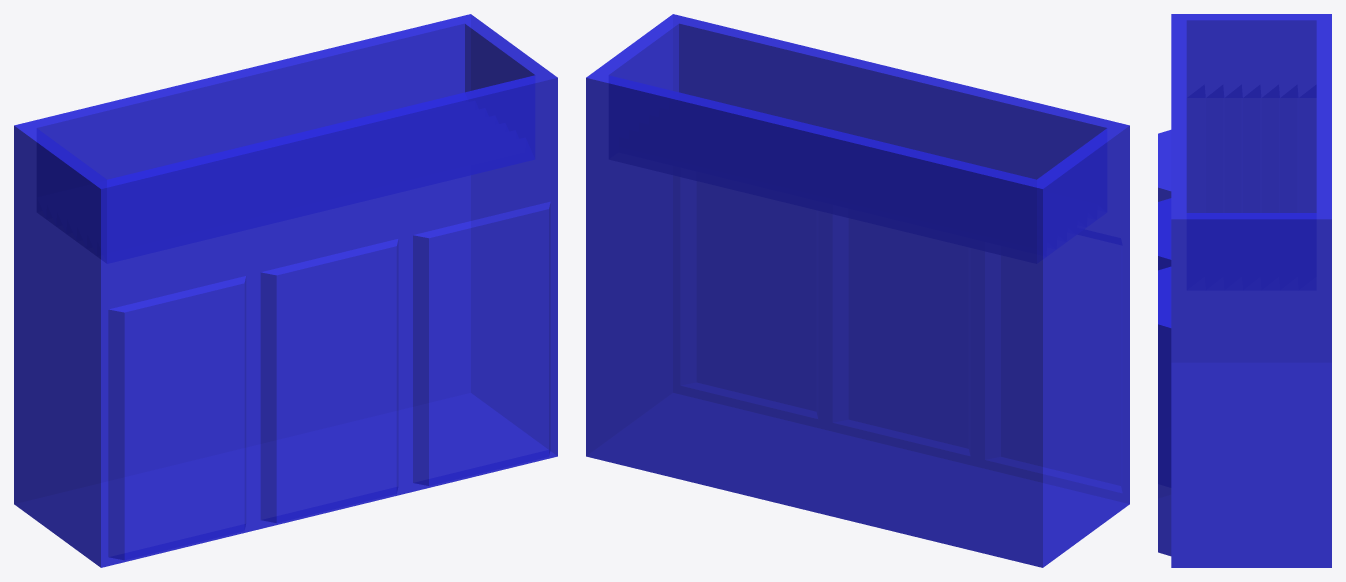
The model's file is pdx.FBX.
The picture shows the model from 3 angles, left to right: view 1: azimuth 30°, elevation 25°; view 2: azimuth 150°, elevation 25°; view 3: azimuth 270°, elevation 25°; orthographic projection. The views are drawn at different scales.
Parts seen in each view (by area): view 1: Object001; view 2: Object001; view 3: Object001.
Part boxes in pixels (x1,y1,x2,y2): Object001: [14, 14, 557, 567]; Object001: [586, 14, 1129, 567]; Object001: [1158, 14, 1331, 567].
Size of the model in its own units: 3.4 by 2.69 by 1.22.
